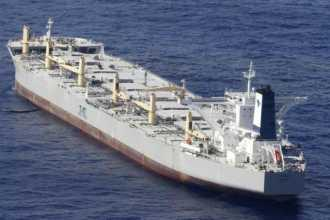Cargoship: (10, 15, 308, 196)
